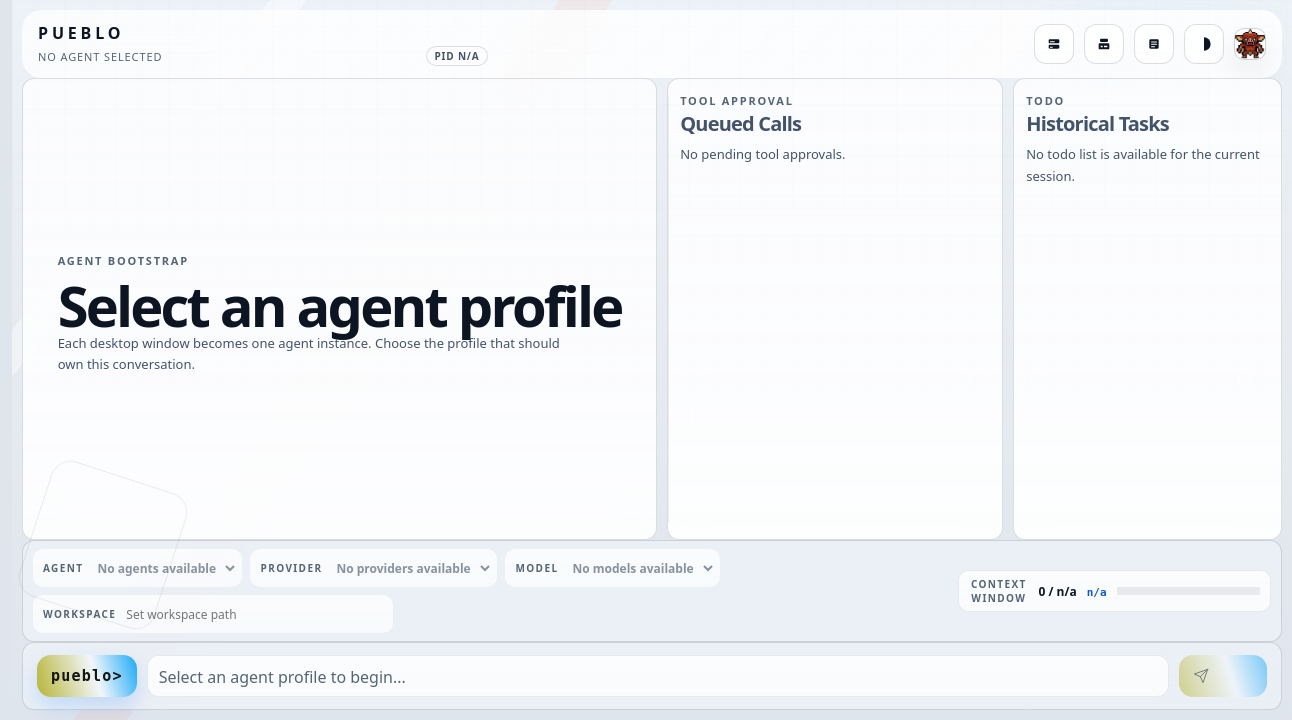
Test case: Desktop Renderer › hydrates the new active session after /new switches sessions
Click the button named "Show session sidebar": (1054, 44) [1034,24,1074,64]
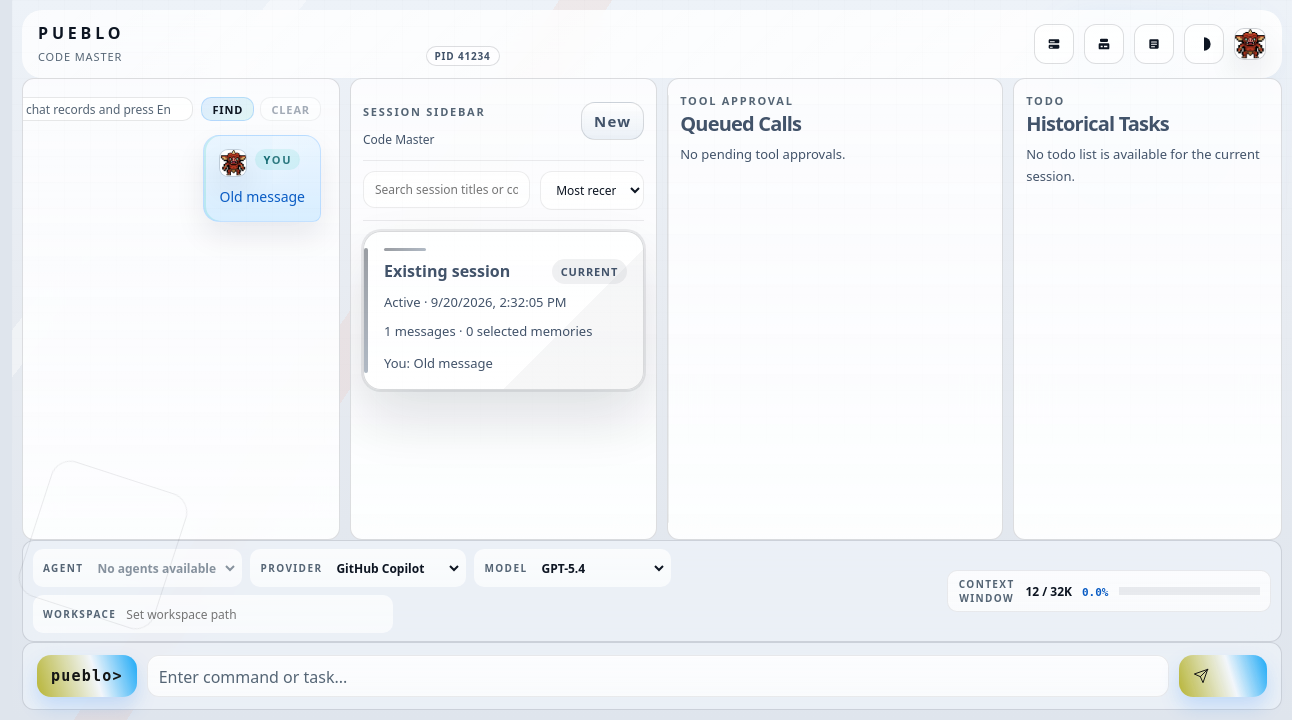
Result: the text "Old message" is shown at [220,185,305,208]
In the text box with placeholder "Enter command or task...": (658, 676) [147,655,1169,697], type "/new fresh-session"
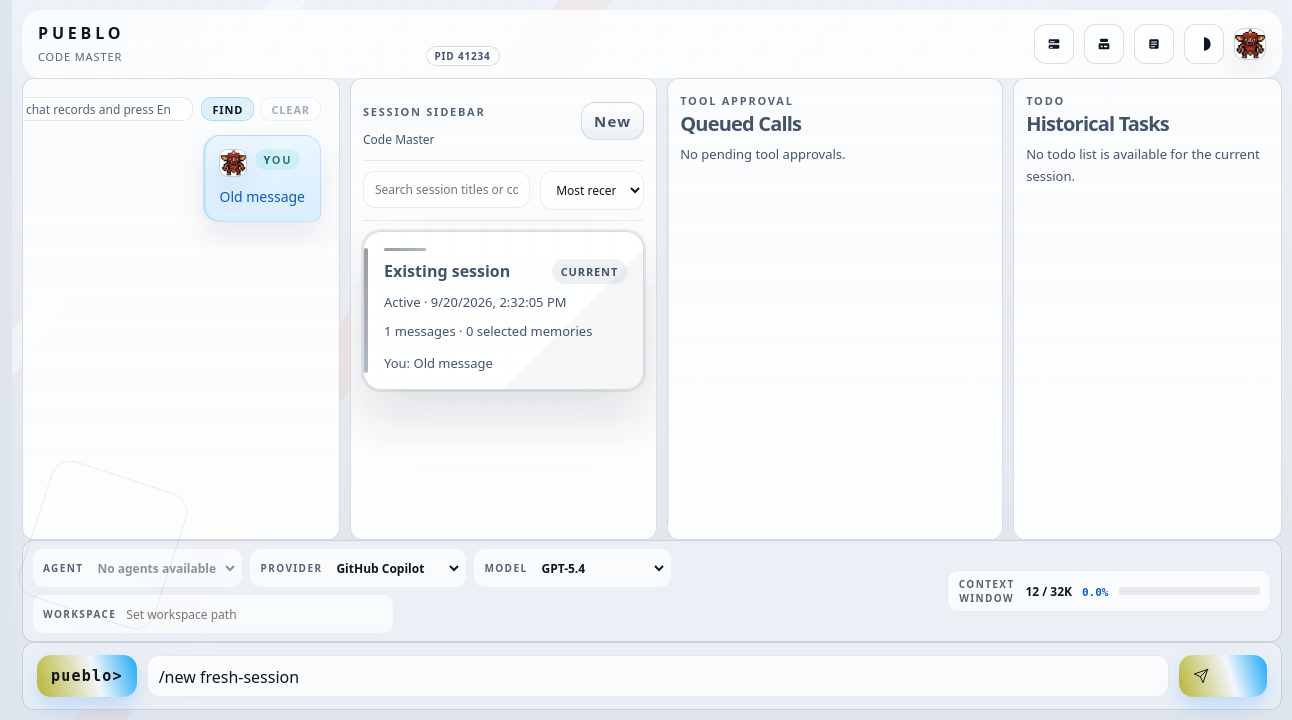
Submit the form named "input-region", box [22,642,1282,710]
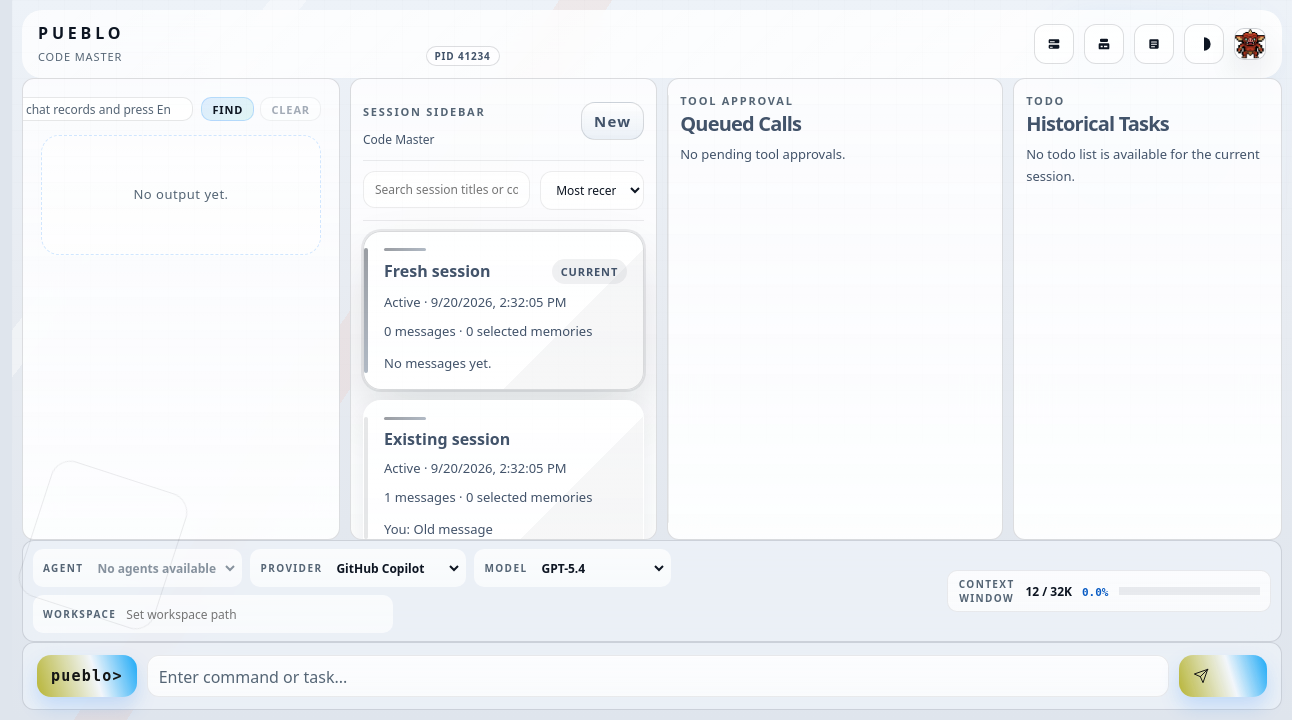
Result: the text "No output yet." is shown at [41,135,321,255]
